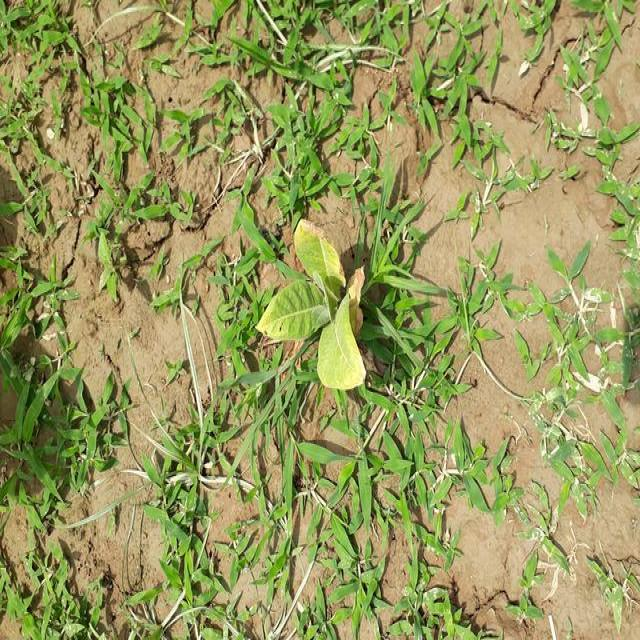crop: (256, 214, 378, 398)
